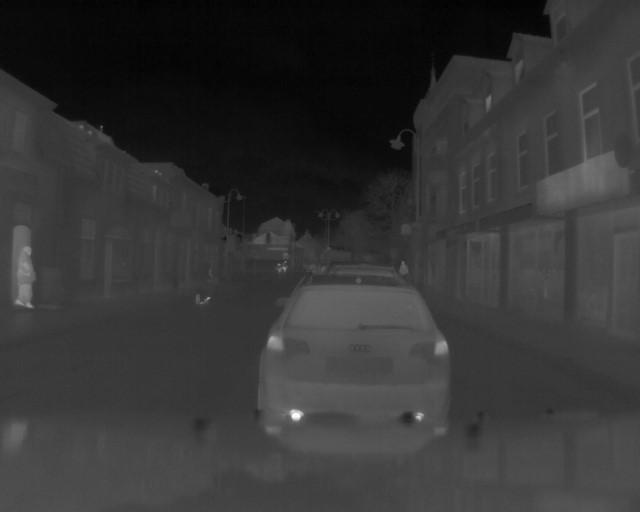car: (255, 283, 451, 440)
person: (15, 242, 41, 306), (396, 261, 412, 281), (281, 255, 291, 278)
